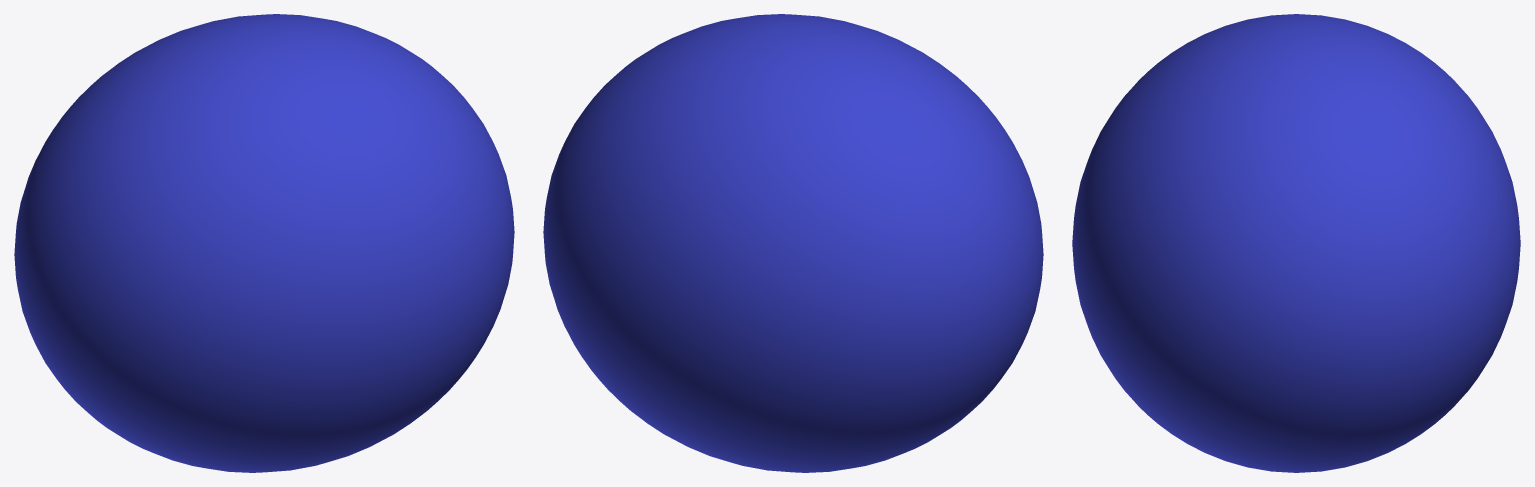
The model's file is sphere.glb.glb.
3 views of the same model, side by side, from view 1: azimuth 30°, elevation 25°; view 2: azimuth 150°, elevation 25°; view 3: azimuth 270°, elevation 25° (orthographic).
Parts seen in each view (by area): view 1: Object_5; view 2: Object_5; view 3: Object_5.
Boxes of the visible parts, x1,y1,x2,y2 form: Object_5: (14, 14, 514, 472); Object_5: (543, 14, 1043, 472); Object_5: (1072, 14, 1520, 472).
Bounding box in the file's own units: 0.3748 × 0.3329 × 0.3329.
1 material, 1 textured.
